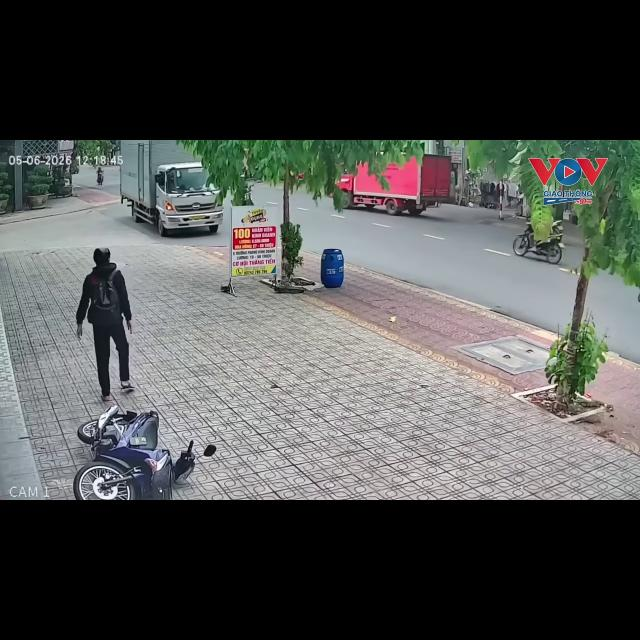motorcycle: (73, 406, 195, 499), (513, 221, 563, 263), (106, 411, 137, 427), (244, 185, 254, 205), (97, 173, 103, 185)
truck: (120, 140, 222, 236), (337, 155, 451, 215)
